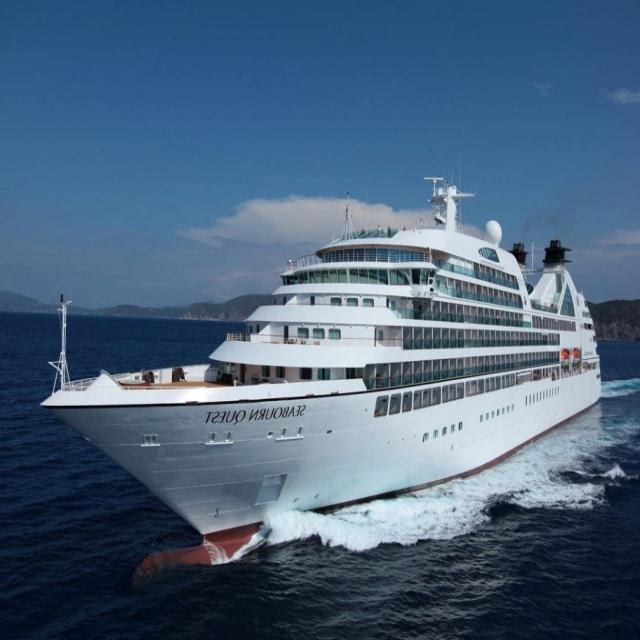passenger ship: (34, 165, 604, 562)
